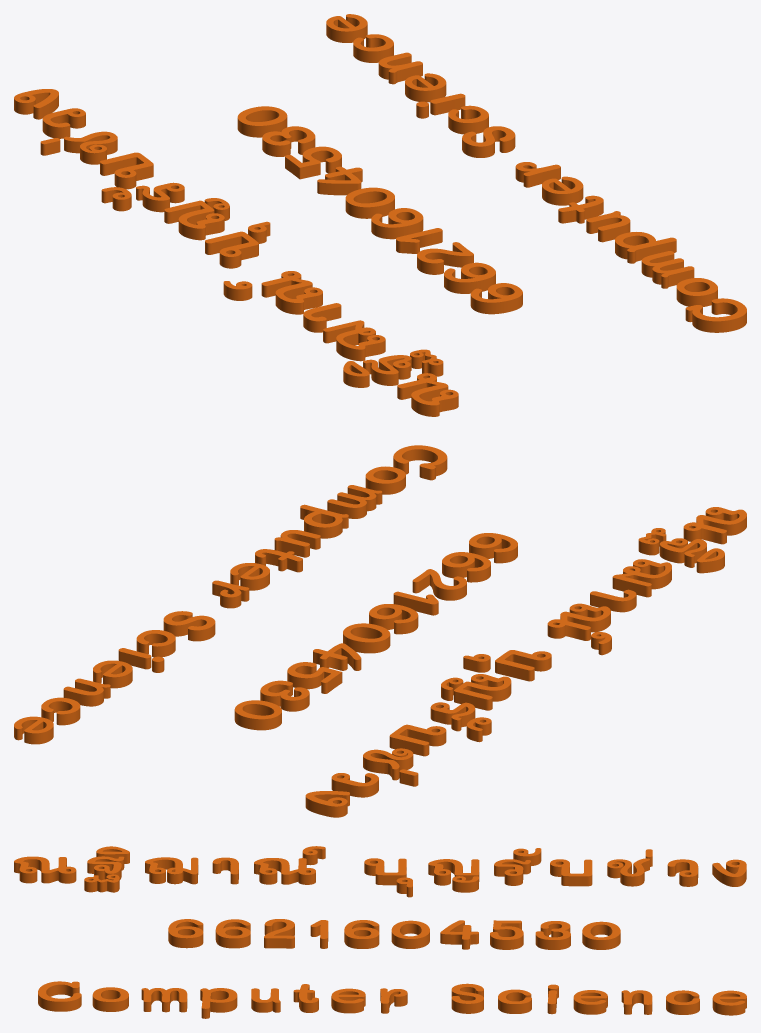
Rendered from name.glb.
3 views of the same model, one above another, from view 1: azimuth 30°, elevation 25°; view 2: azimuth 150°, elevation 25°; view 3: azimuth 270°, elevation 25° (orthographic). The views are drawn at different scales.
Visible parts, largest first — view 1: Text; view 2: Text; view 3: Text.
Boxes of the visible parts, left/top/right/bottom form: Text: left=14, top=14, right=746, bottom=416; Text: left=14, top=445, right=746, bottom=817; Text: left=14, top=846, right=746, bottom=1018.
Bounding box in the file's own units: 2.79 × 0.08 × 5.31.
